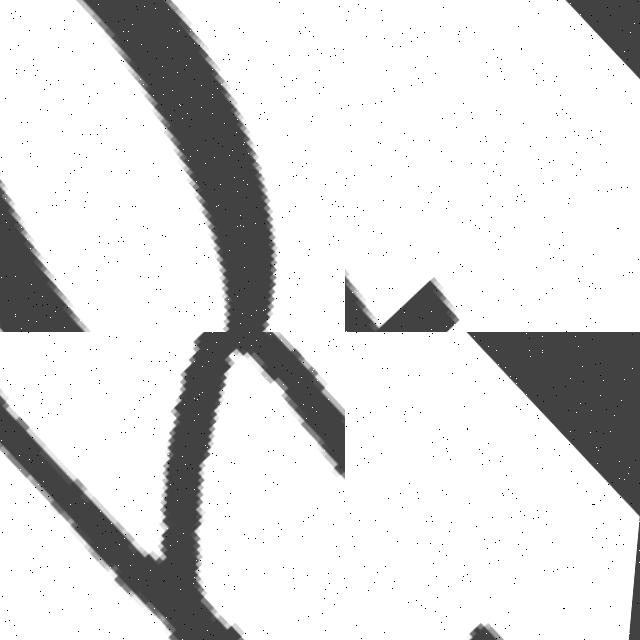0: (0, 0, 345, 332)
1: (345, 353, 620, 640)
J: (345, 0, 640, 332)
Y: (0, 332, 345, 640)
